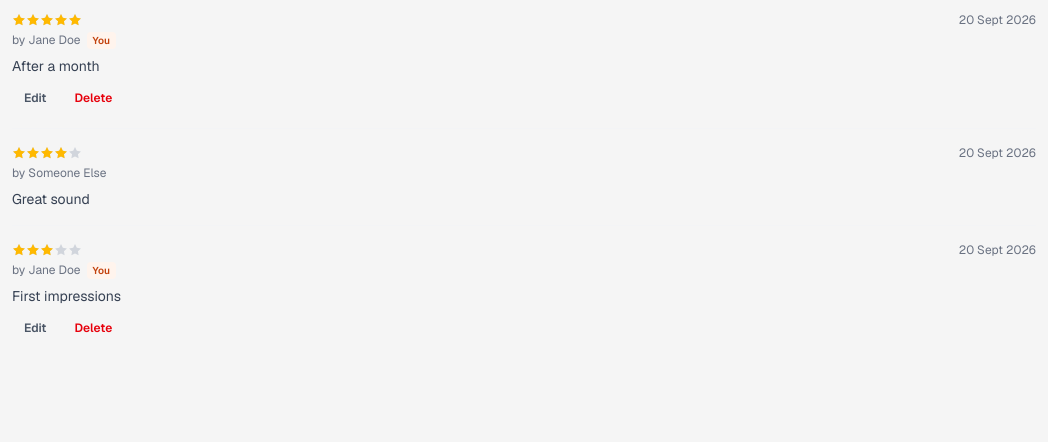
it: reviews › RatingList › cancels an edit without saving
Click the button with aria-label "Edit review" at [35, 98], box x1=12 y1=84 x2=58 y2=112
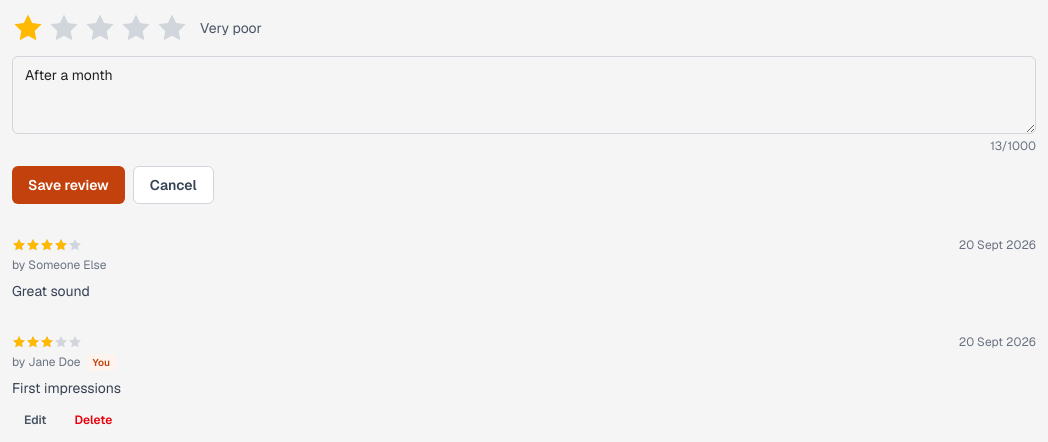
Click the button "Cancel" at [173, 185], box x1=133 y1=166 x2=214 y2=204
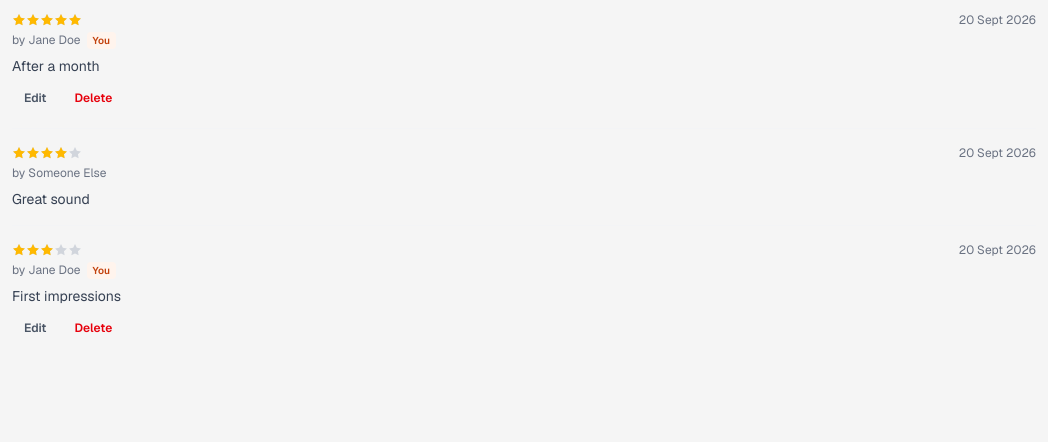
Now the text "After a month" is shown, box x1=12 y1=57 x2=100 y2=75
